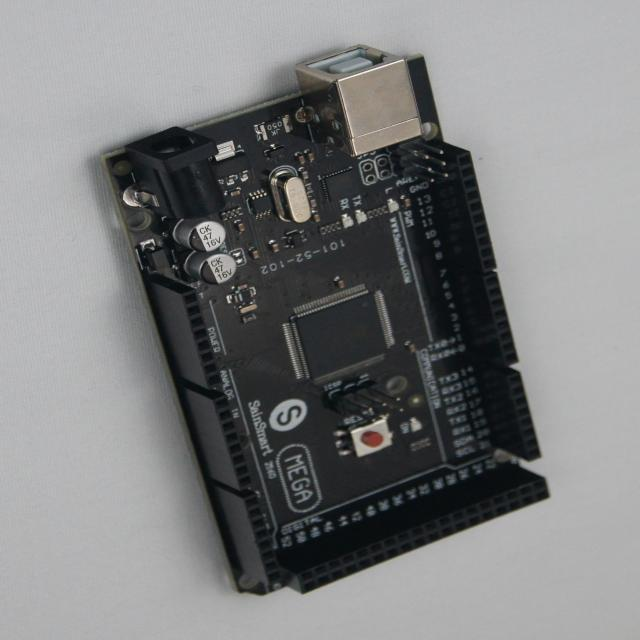Arduino Mega 2560 -Black-: (104, 47, 549, 595)
